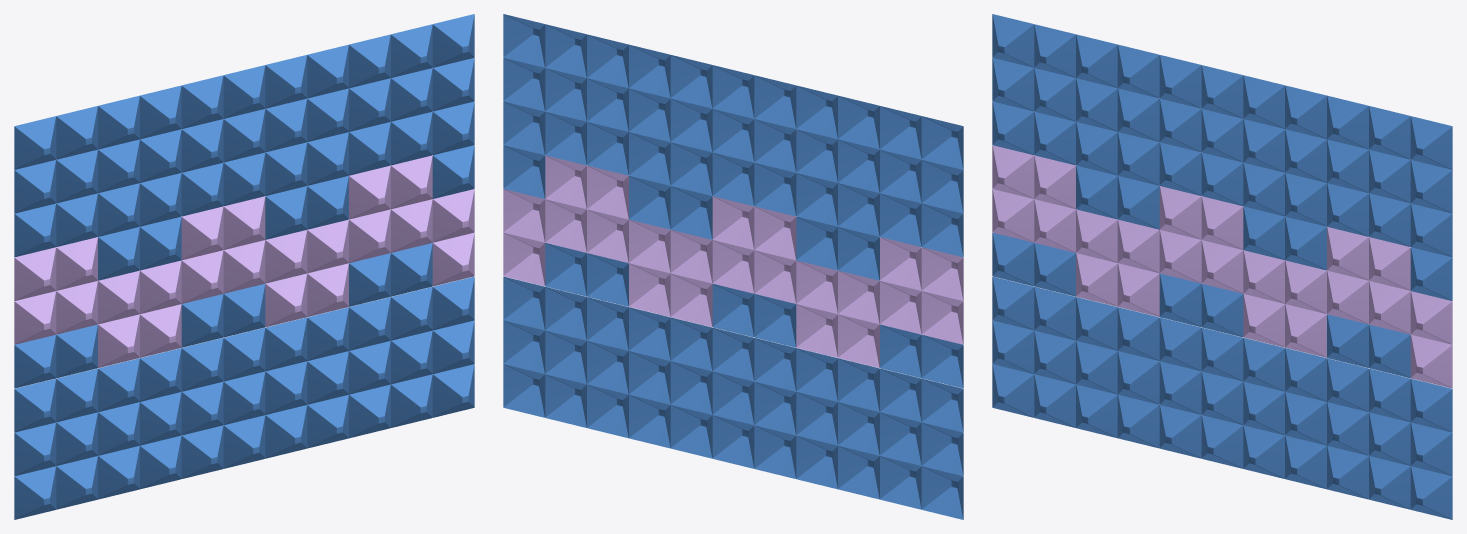
Rendered from wall.fbx.
3 renders of one model, left to right at view 1: azimuth 30°, elevation 25°; view 2: azimuth 150°, elevation 25°; view 3: azimuth 330°, elevation 25°, orthographic.
Visible parts, largest first — view 1: wall; view 2: wall; view 3: wall.
Part boxes in pixels (box(x1,y1,x2,y2)): wall: box(14, 14, 474, 519); wall: box(503, 14, 963, 519); wall: box(992, 14, 1452, 519).
Size of the model in its own units: 4.77 by 3.9 by 0.2134.
